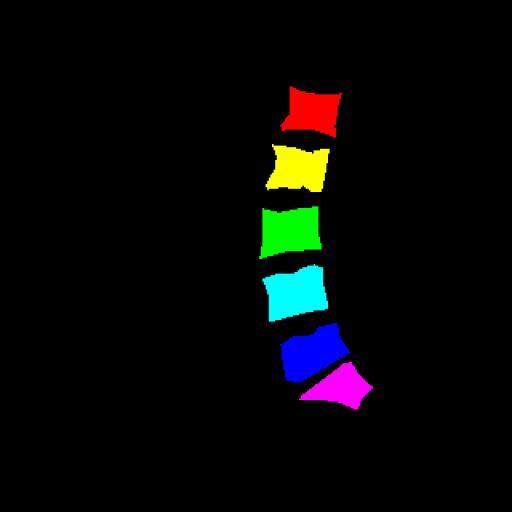L1: (281, 86, 342, 138)
L2: (266, 146, 330, 192)
L3: (259, 206, 322, 258)
L4: (263, 265, 328, 322)
L5: (281, 323, 350, 382)
S1: (300, 362, 373, 410)
